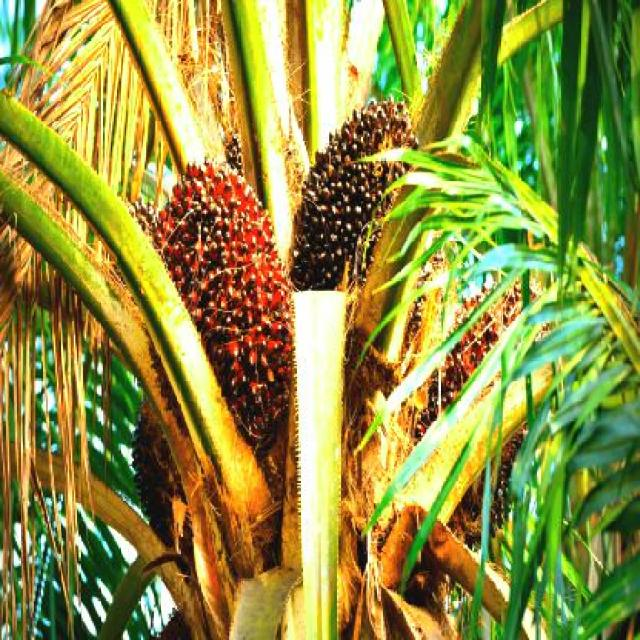palm-oil: (129, 157, 304, 462), (302, 91, 412, 312)
